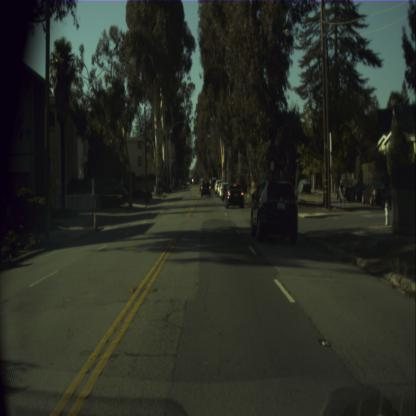Green: (208, 148, 210, 156), (219, 164, 220, 170)
